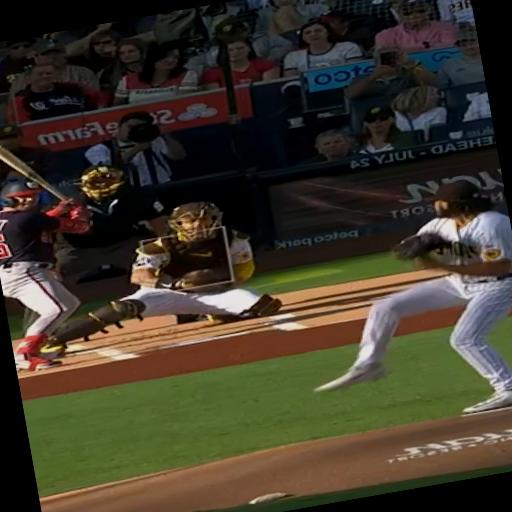bat: (0, 146, 68, 201)
